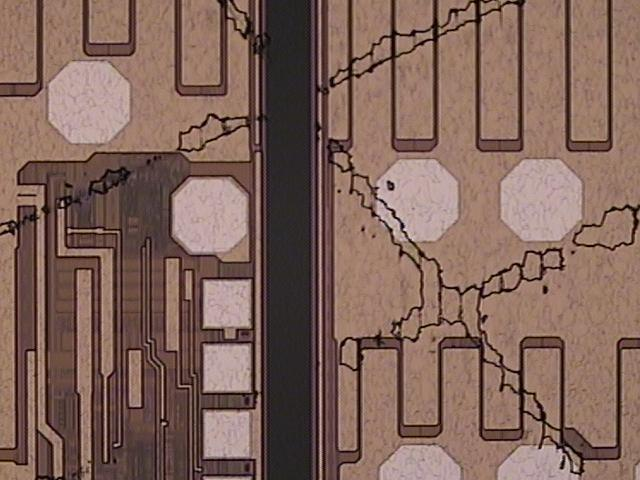SCRATCH: (212, 1, 597, 480), (36, 198, 640, 480), (1, 1, 517, 246)
